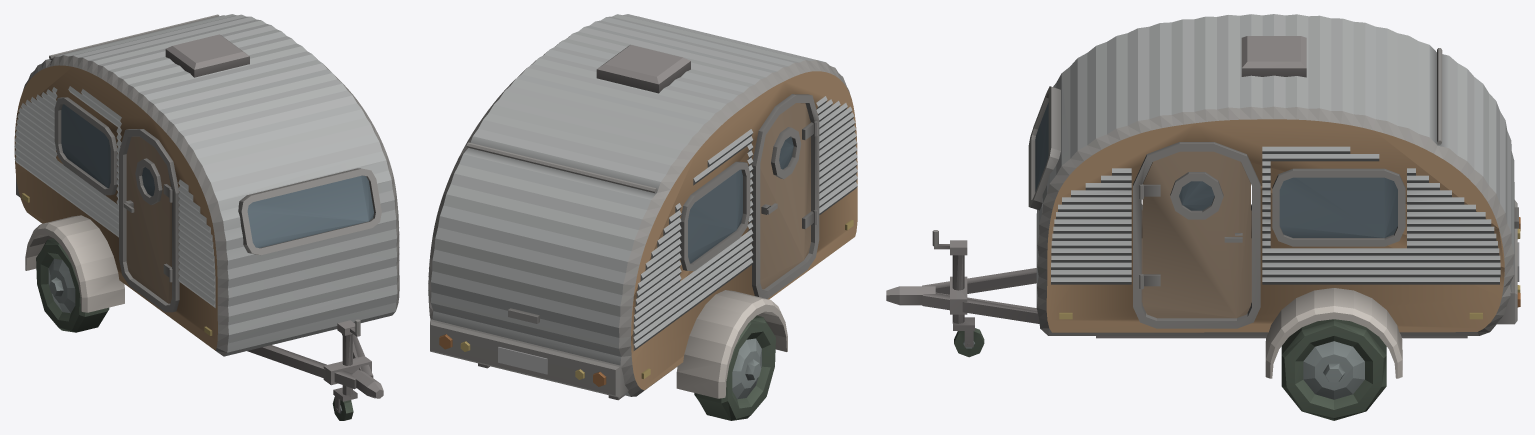
File: trailer.glb
3 views of the same model, side by side, from view 1: azimuth 30°, elevation 25°; view 2: azimuth 150°, elevation 25°; view 3: azimuth 270°, elevation 25° (orthographic). The views are drawn at different scales.
Parts seen in each view (by area): view 1: trailer; view 2: trailer; view 3: trailer.
Part boxes in pixels (x1,y1,x2,y2): trailer: [14, 14, 399, 420]; trailer: [428, 14, 857, 420]; trailer: [886, 14, 1520, 420].
Bounding box in the file's own units: 2.19 × 2.22 × 4.16.
